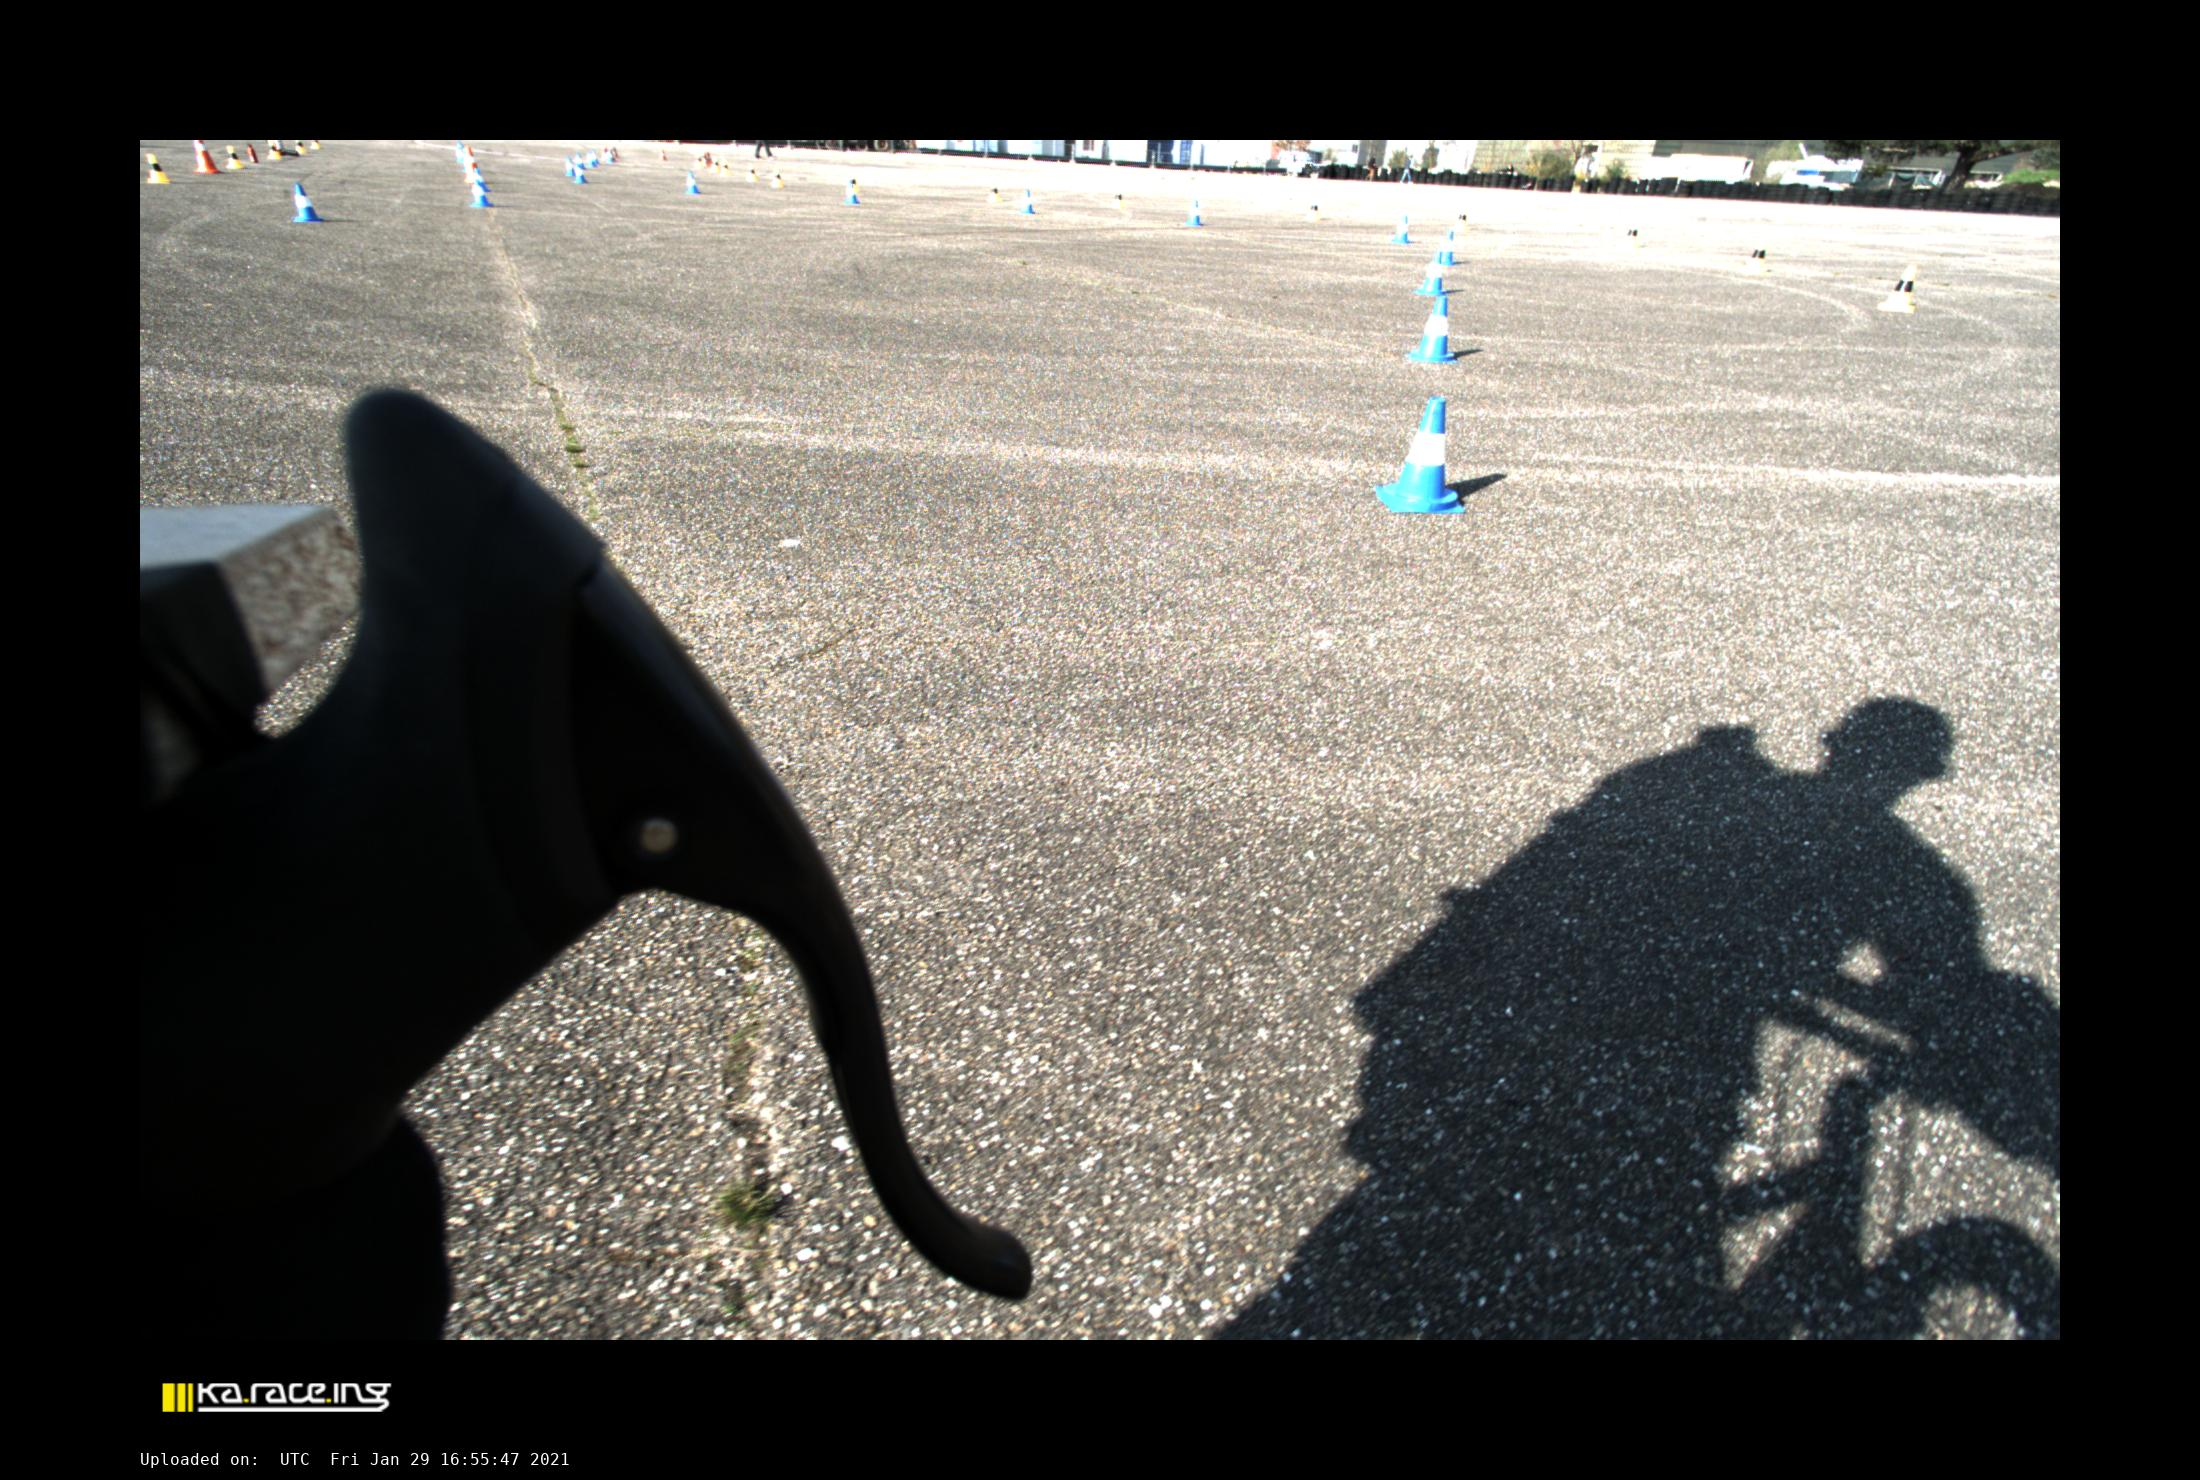blue_cone: (1376, 397, 1467, 512), (1408, 296, 1456, 364), (1415, 254, 1449, 296), (292, 182, 320, 223), (1439, 230, 1456, 270), (471, 180, 492, 207), (1391, 216, 1408, 246), (1184, 198, 1200, 228), (1018, 189, 1036, 214), (684, 171, 701, 194), (845, 179, 860, 204), (475, 168, 490, 191), (574, 164, 588, 183), (566, 157, 576, 176), (575, 153, 586, 170), (455, 141, 462, 163), (586, 152, 596, 167), (591, 150, 600, 164), (605, 149, 612, 163)
large_orange_cone: (193, 140, 220, 175), (463, 146, 478, 183)
orange_cone: (658, 149, 668, 161), (704, 152, 712, 165)
yellow_cone: (1880, 264, 1915, 313), (1745, 239, 1769, 276), (144, 152, 171, 184), (1619, 222, 1640, 253), (225, 145, 245, 169), (1454, 207, 1470, 233), (1305, 198, 1320, 222), (987, 182, 1001, 204), (267, 140, 282, 159), (1112, 188, 1125, 208), (771, 168, 783, 187), (746, 164, 757, 181), (720, 161, 731, 177), (851, 177, 860, 193), (711, 157, 720, 173), (295, 140, 306, 153), (694, 154, 703, 167), (310, 140, 322, 149)
